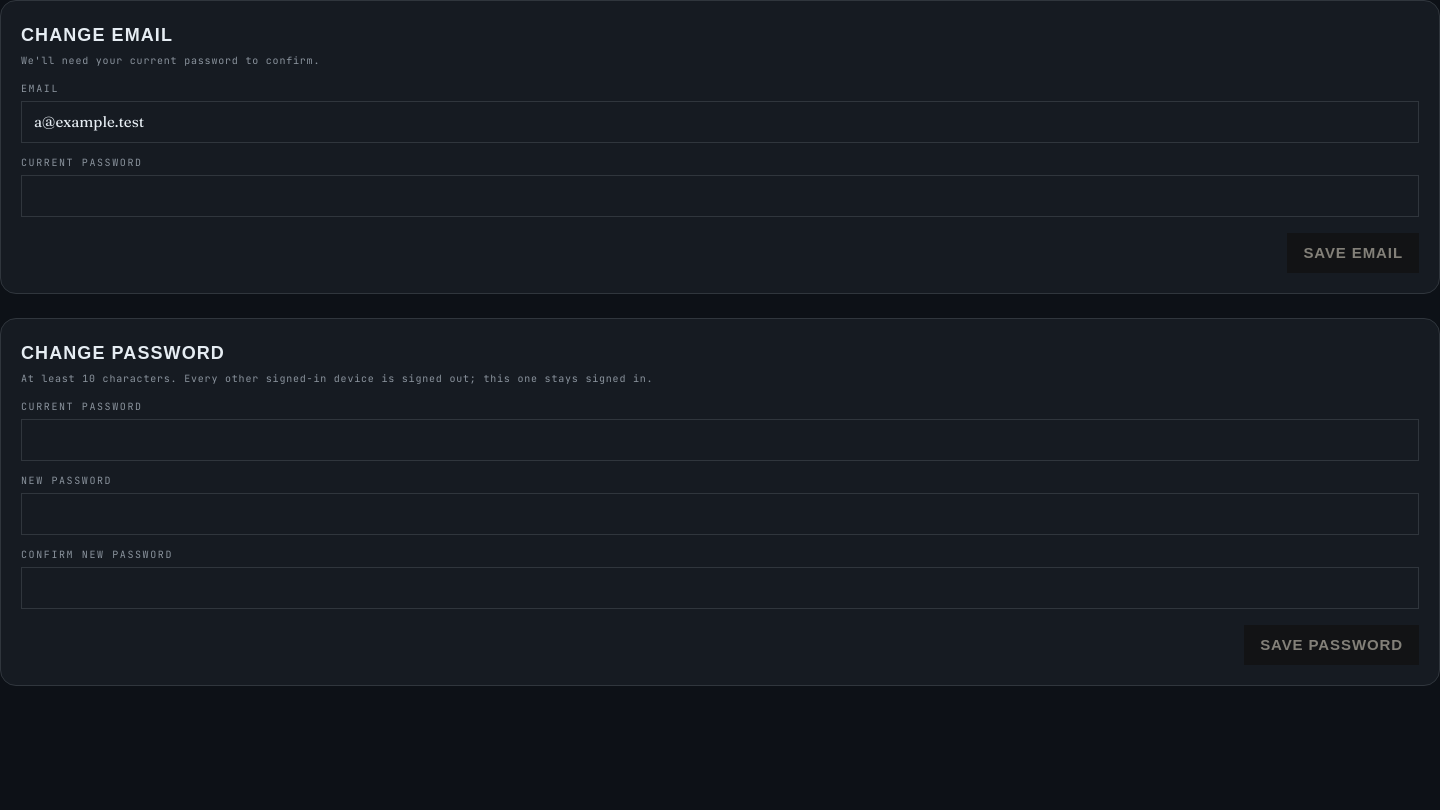
a FAILED session update is not reported as success › says the password changed AND that a new sign-in is needed
The width and height of the screenshot is (1440, 810).
Type "old-password" into the password field labelled "CURRENT PASSWORD" below "Change password" at (720, 440), box [21,419,1419,461]
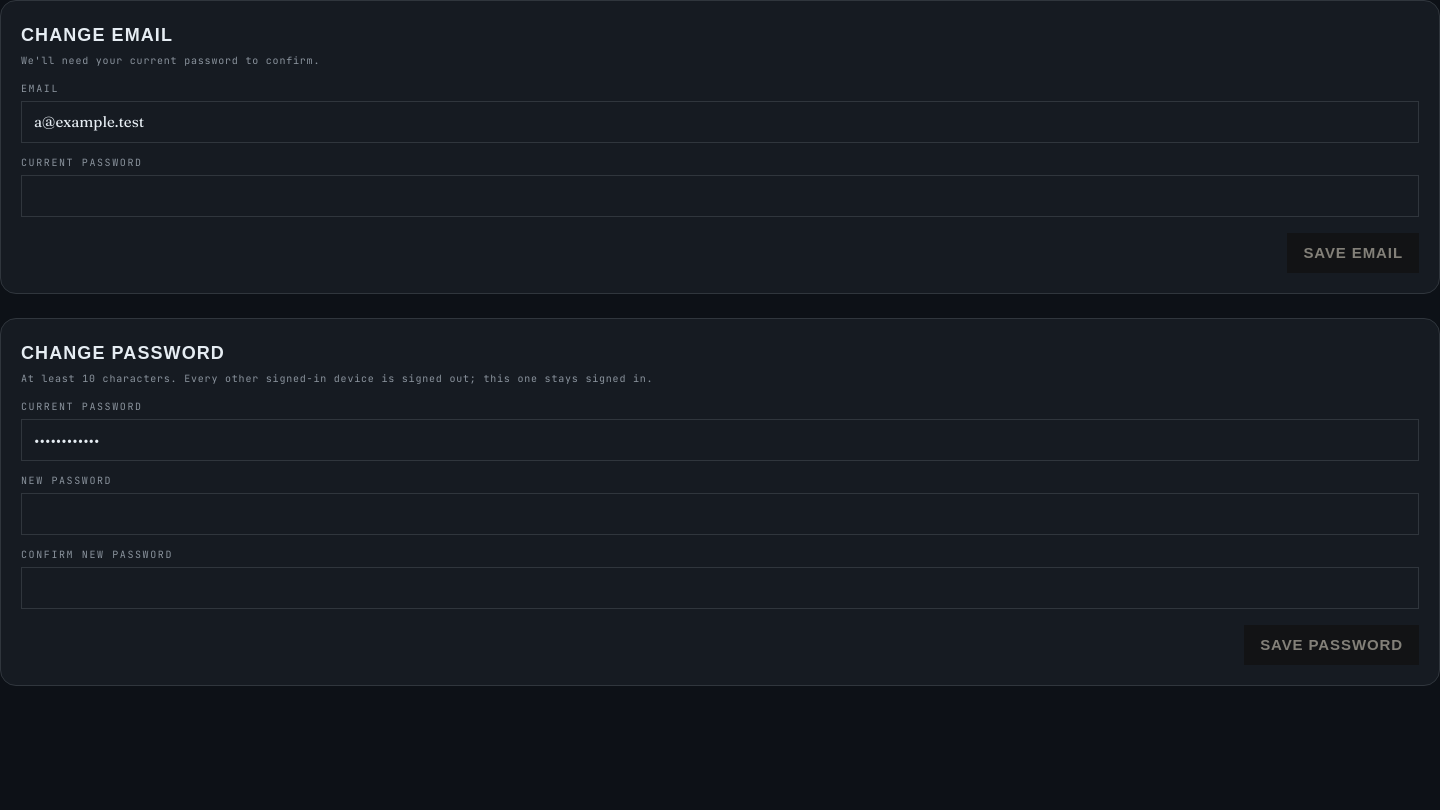
Type "a-new-password-10" into the password field labelled "NEW PASSWORD" at (720, 514), box [21,493,1419,535]
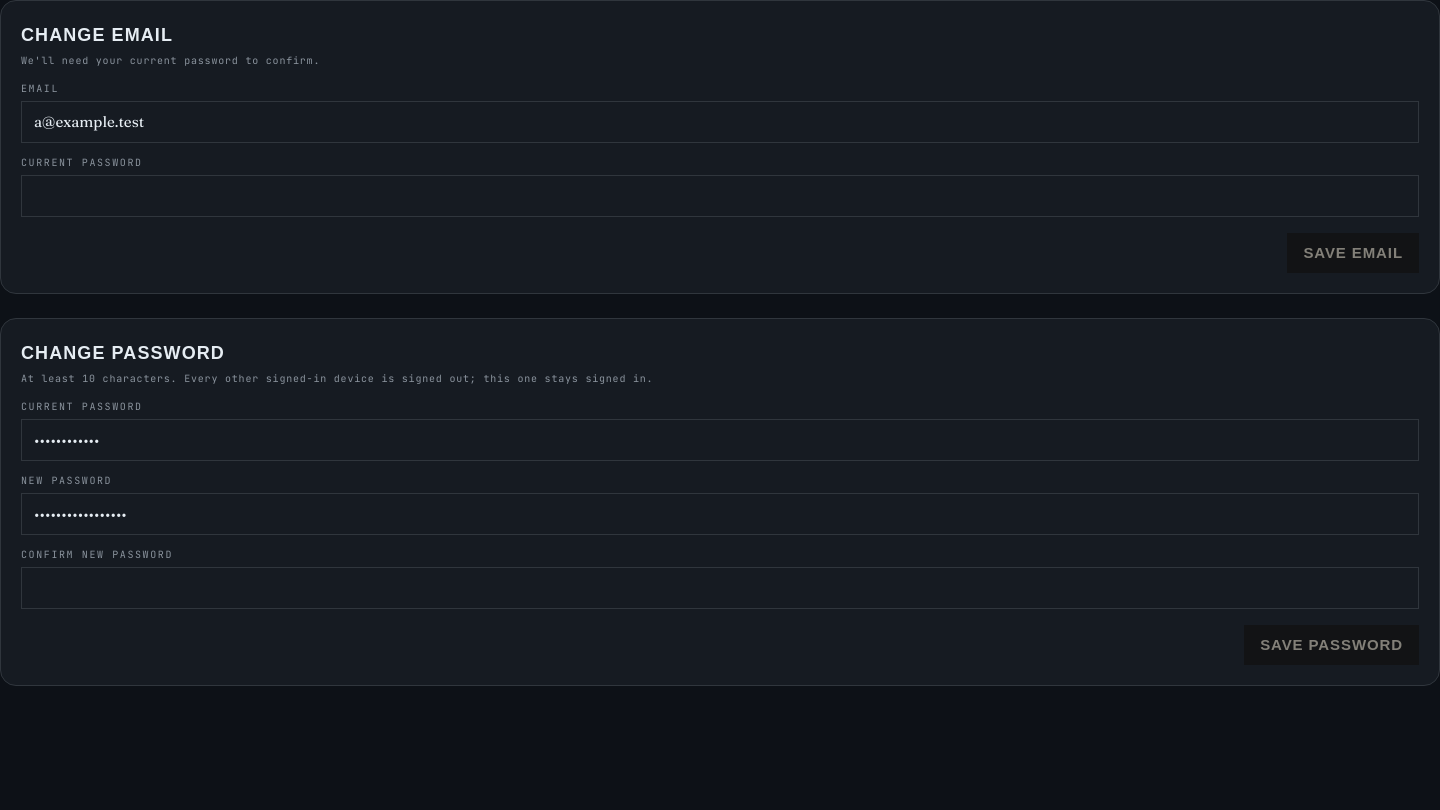
Type "a-new-password-10" into the password field labelled "CONFIRM NEW PASSWORD" at (720, 588), box [21,567,1419,609]
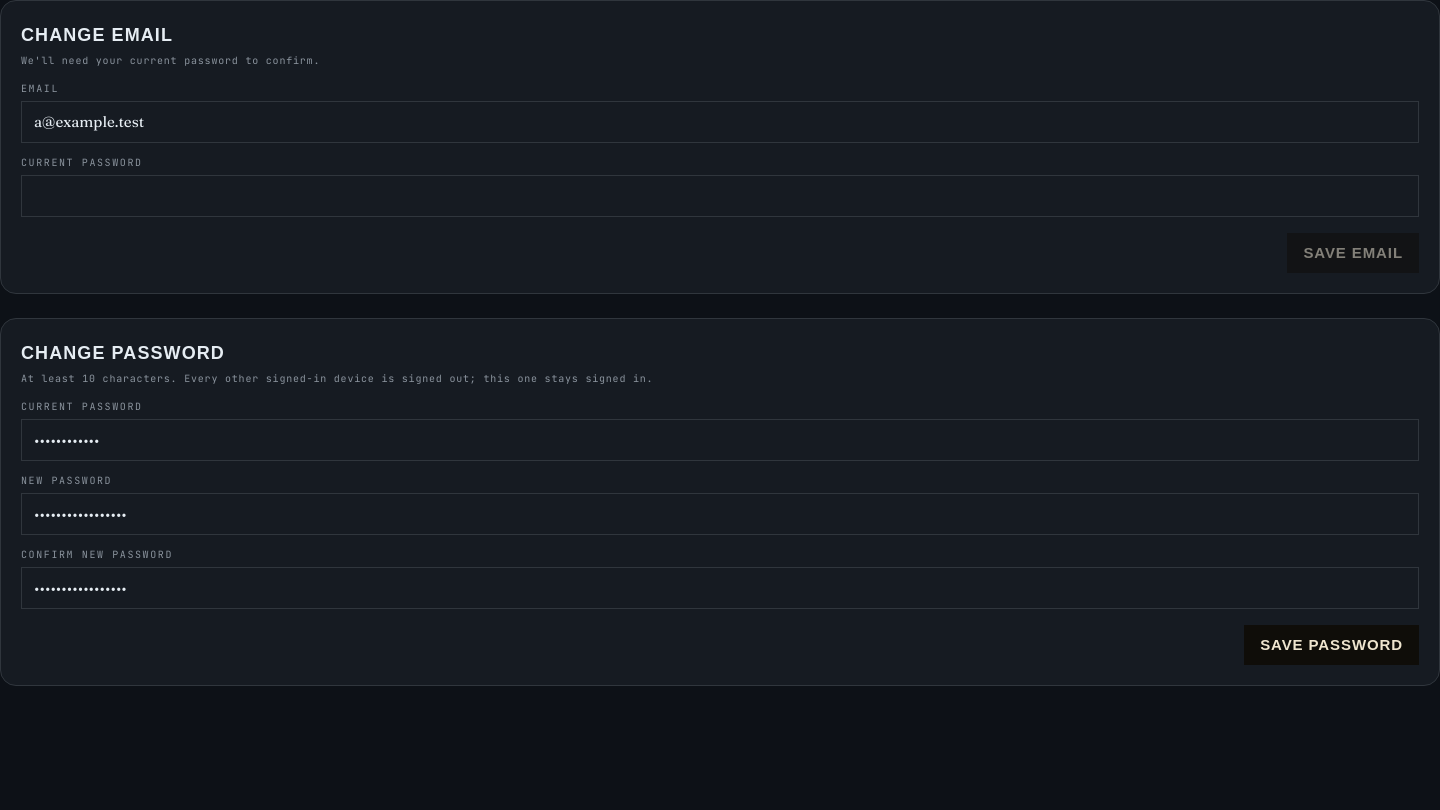
Click the button "Save password" at (1332, 645), box [1244,625,1419,665]
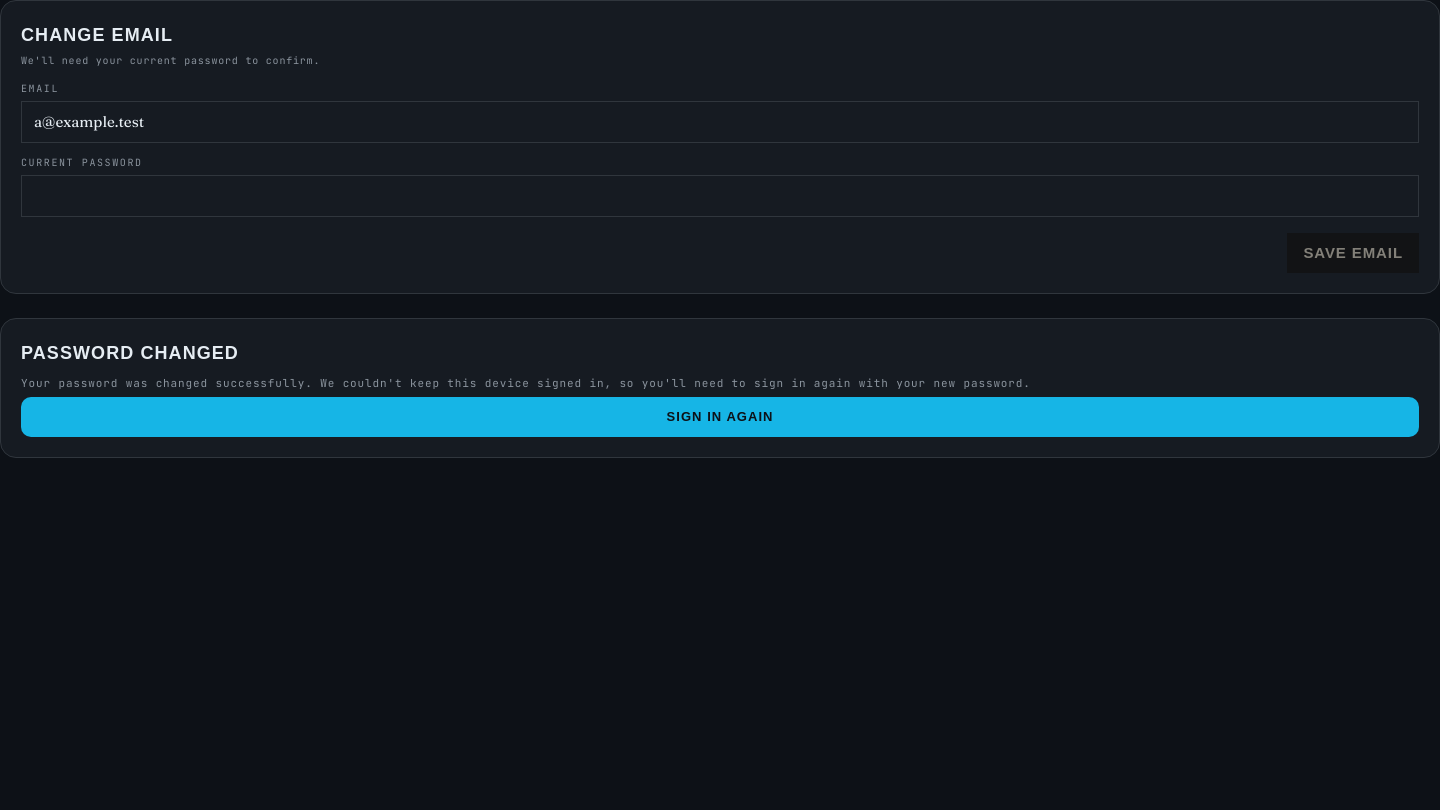
Expected: the heading "Password changed" is shown, [21,343,239,363]
Expected: the message shows "changed successfully", [21,376,1031,390]
Expected: the message shows "sign in again", [21,376,1031,390]
